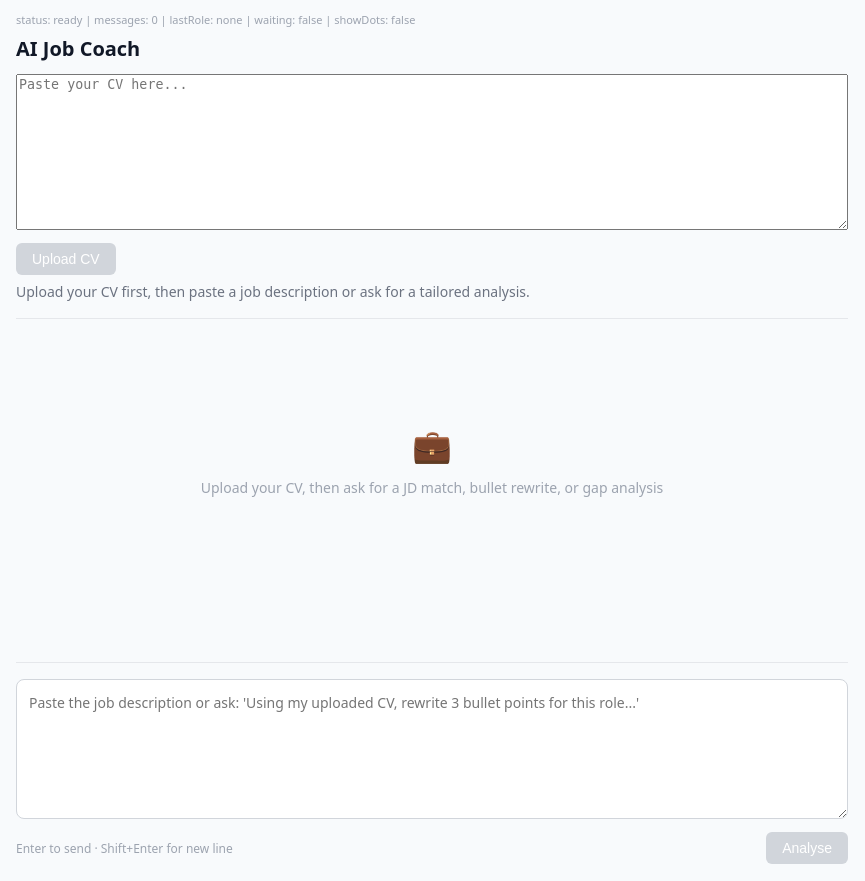
Test: <App /> › shows warning and does not send message when CV has not been uploaded
Step 1. Replace the text in the text box with placeholder "Paste the job description or ask" with "How strong is my CV for this job?" → {"x": 432, "y": 749}, box [16,679,848,819]
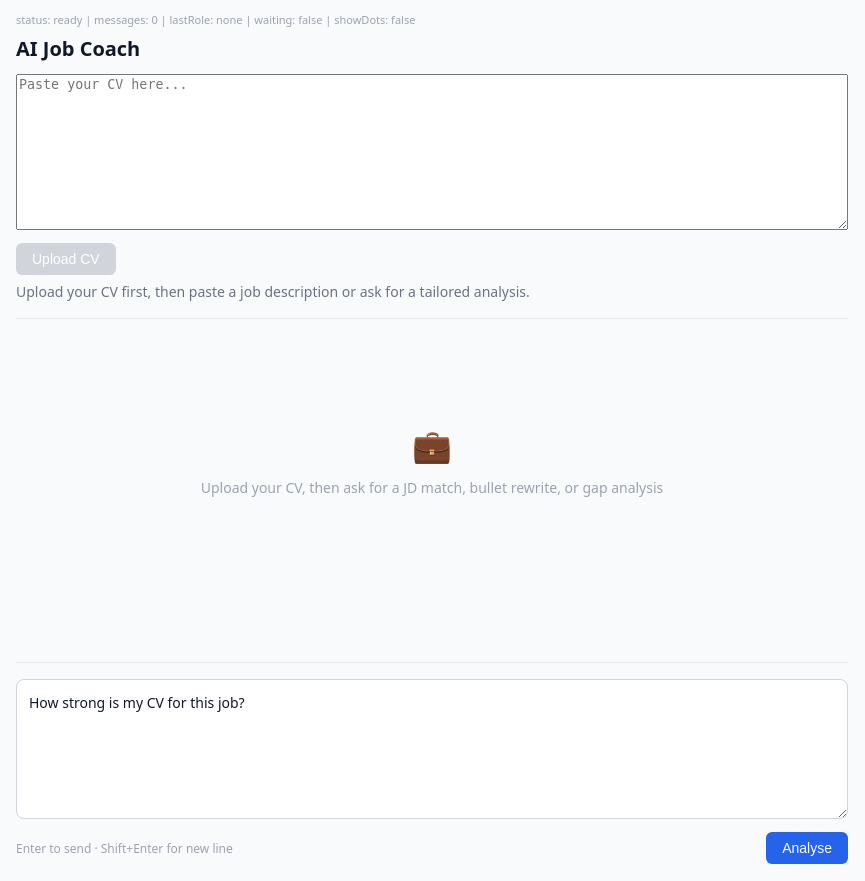
Step 2. Submit the form with placeholder "paste the job description or ask", box [16,662,848,864]
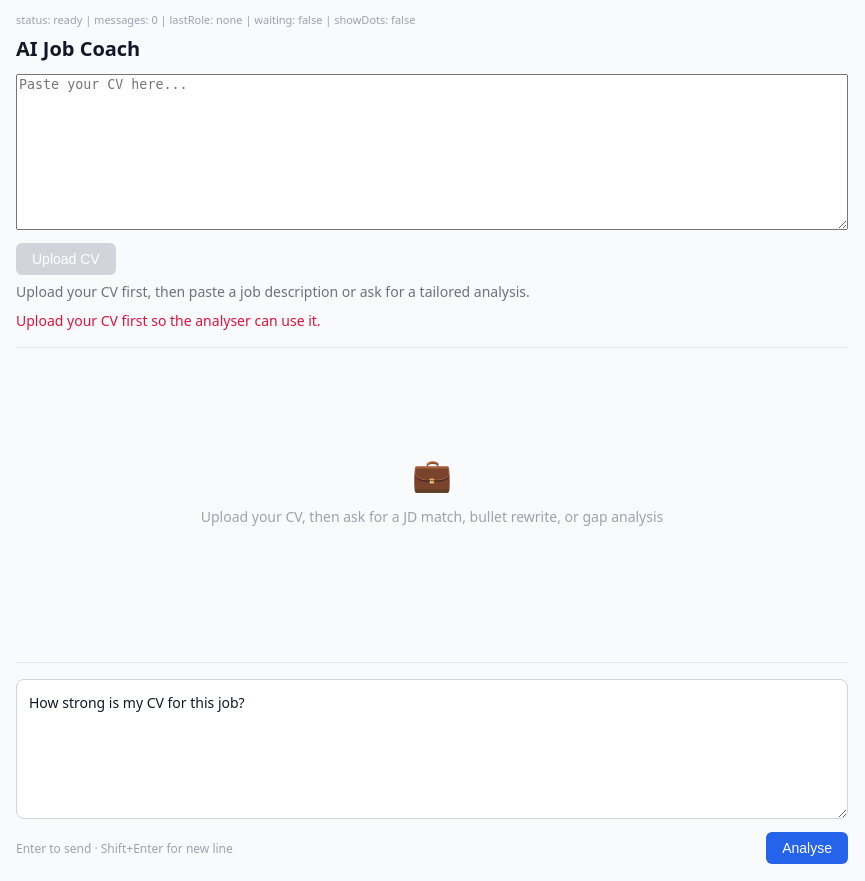
Now the text "Upload your CV first so the analyser can use it." is shown, box [16,311,321,330]
